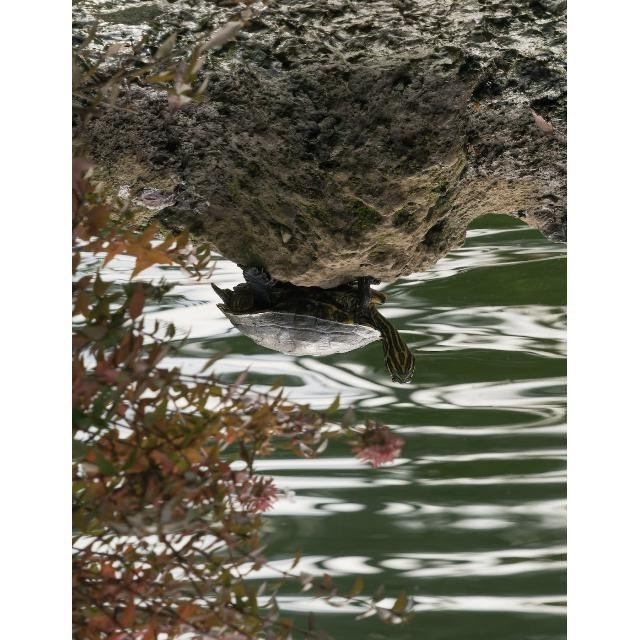turtle: (210, 263, 416, 385)
